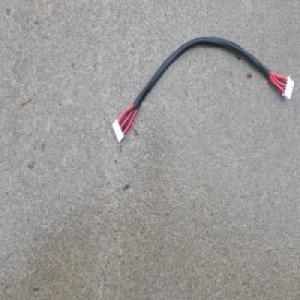Wire: (111, 33, 295, 144)
